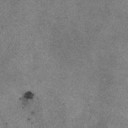iron sheet ash: (23, 91, 36, 100)
